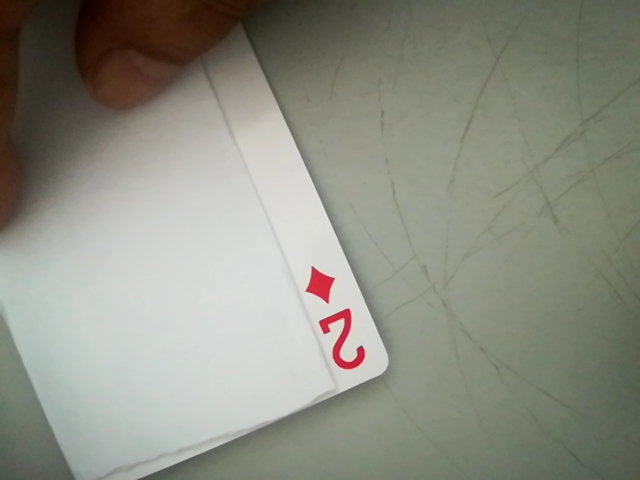fk 2: (295, 260, 378, 384)
